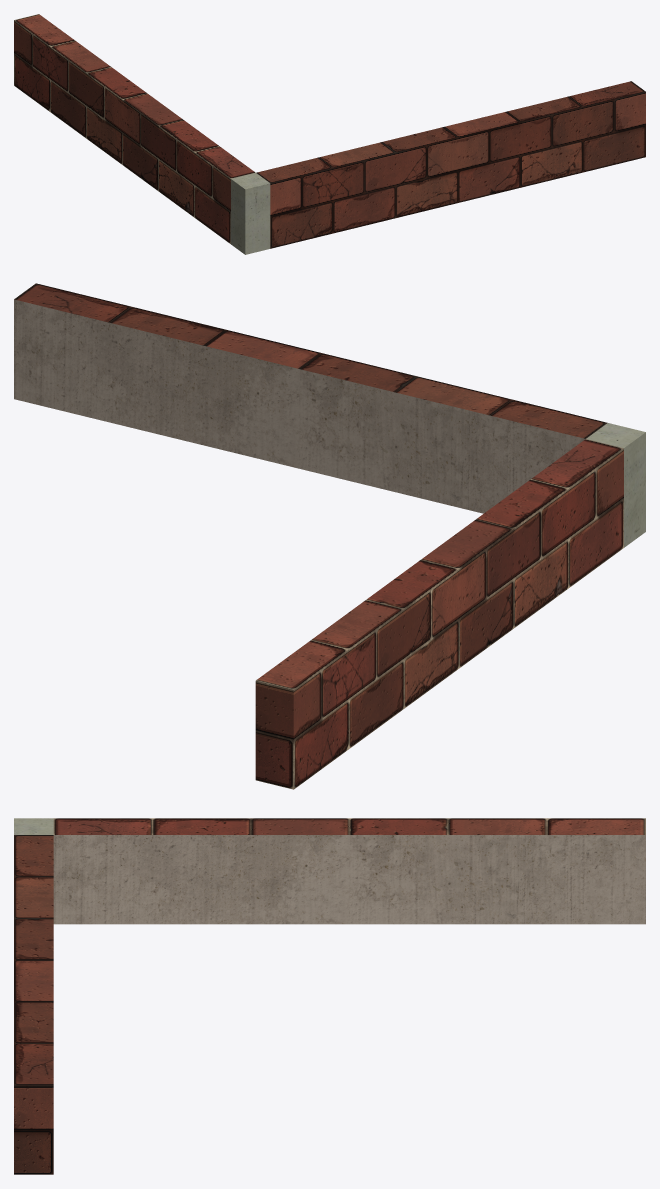
File: roof04_corner.fbx
3 renders of one model, top to bottom at view 1: azimuth 30°, elevation 25°; view 2: azimuth 150°, elevation 25°; view 3: azimuth 270°, elevation 25°, orthographic. The views are drawn at different scales.
Parts seen in each view (by area): view 1: roof04_corner; view 2: roof04_corner; view 3: roof04_corner.
Boxes of the visible parts, x1,y1,x2,y2 form: roof04_corner: (14,14,645,254); roof04_corner: (14,283,645,789); roof04_corner: (14,818,645,1174).
Size of the model in its own units: 320 by 50 by 320.
